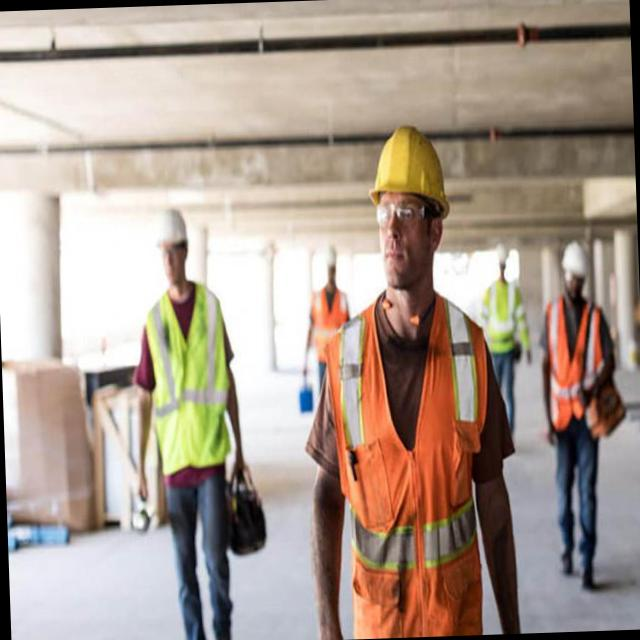Helmet: (368, 126, 454, 210), (554, 242, 592, 292), (150, 206, 194, 242), (320, 244, 344, 279), (491, 244, 514, 265)
Vest: (323, 302, 492, 640), (137, 288, 238, 478), (550, 295, 610, 443), (486, 280, 524, 372)
